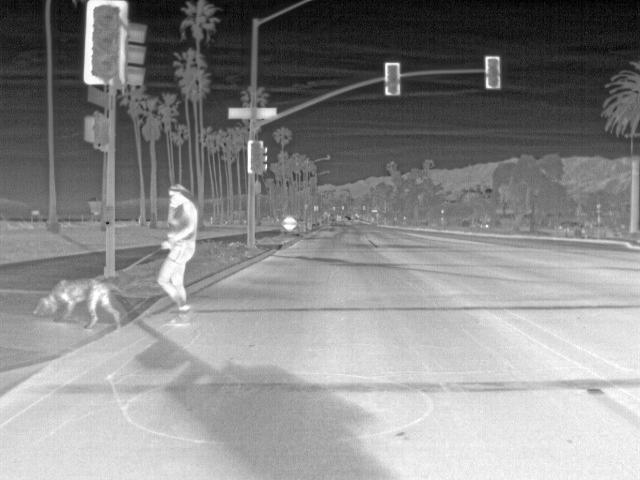dog: (34, 278, 124, 330)
person: (156, 182, 199, 327)
